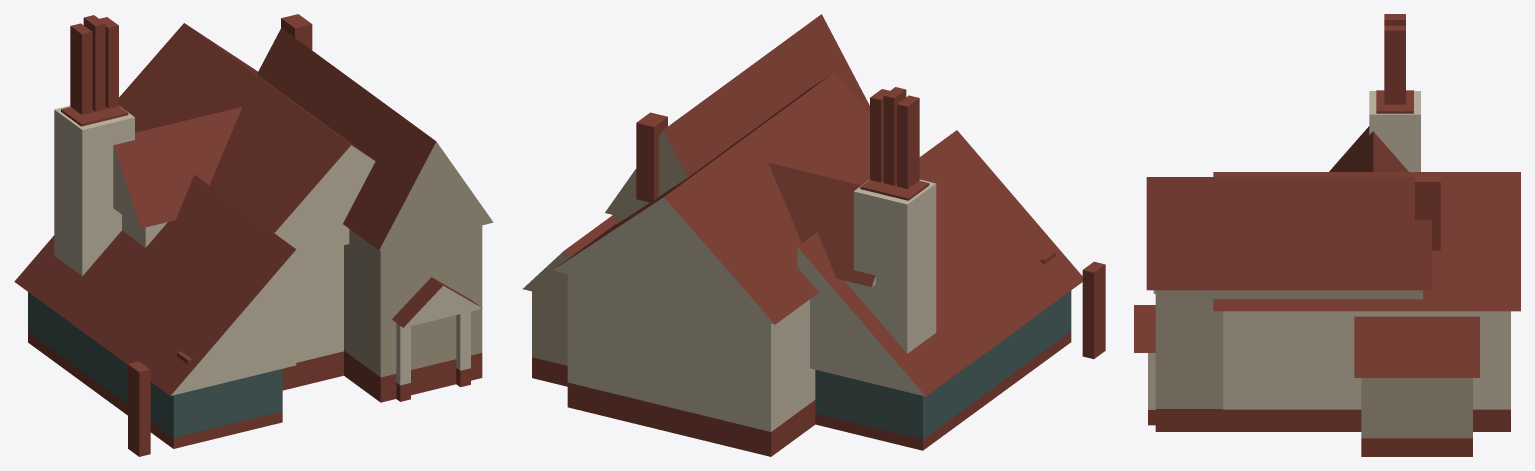
The model's file is test-hudec-memorial-c-massing.glb.
3 views of the same model, side by side, from view 1: azimuth 30°, elevation 25°; view 2: azimuth 150°, elevation 25°; view 3: azimuth 270°, elevation 25° (orthographic). The views are drawn at different scales.
Parts seen in each view (by area): view 1: test-hudec-memorial-c-massing; view 2: test-hudec-memorial-c-massing; view 3: test-hudec-memorial-c-massing.
Part boxes in pixels (x1,y1,x2,y2): test-hudec-memorial-c-massing: (14, 14, 493, 456); test-hudec-memorial-c-massing: (522, 14, 1105, 456); test-hudec-memorial-c-massing: (1134, 14, 1520, 456).
Bounding box in the file's own units: 10.62 × 8.26 × 9.69.
